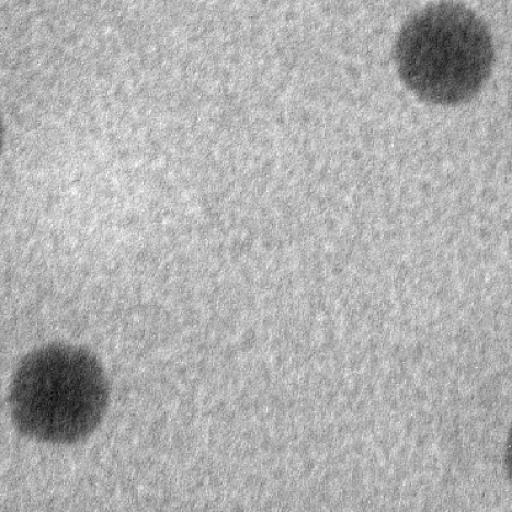Nanoparticles: (5, 339, 114, 446), (391, 1, 493, 105)
